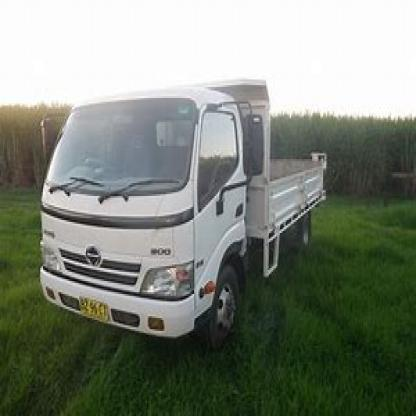dump_truck: (35, 70, 366, 366)
